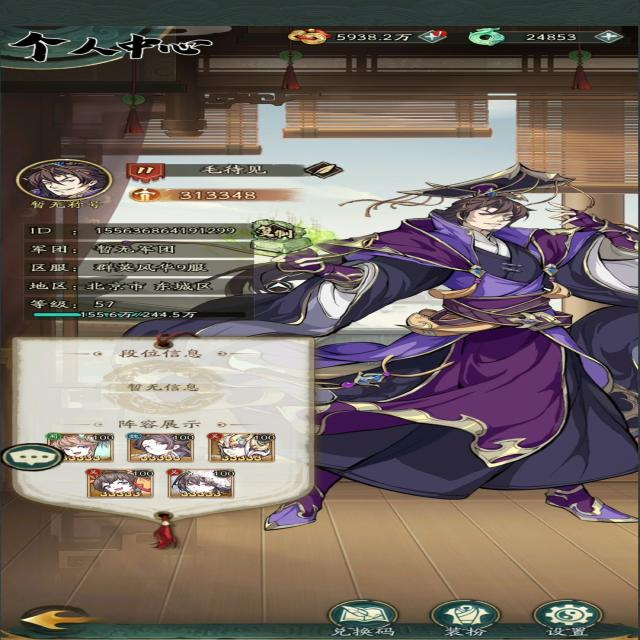operation-back: (13, 603, 106, 636)
operation-decorate: (426, 597, 506, 639)
